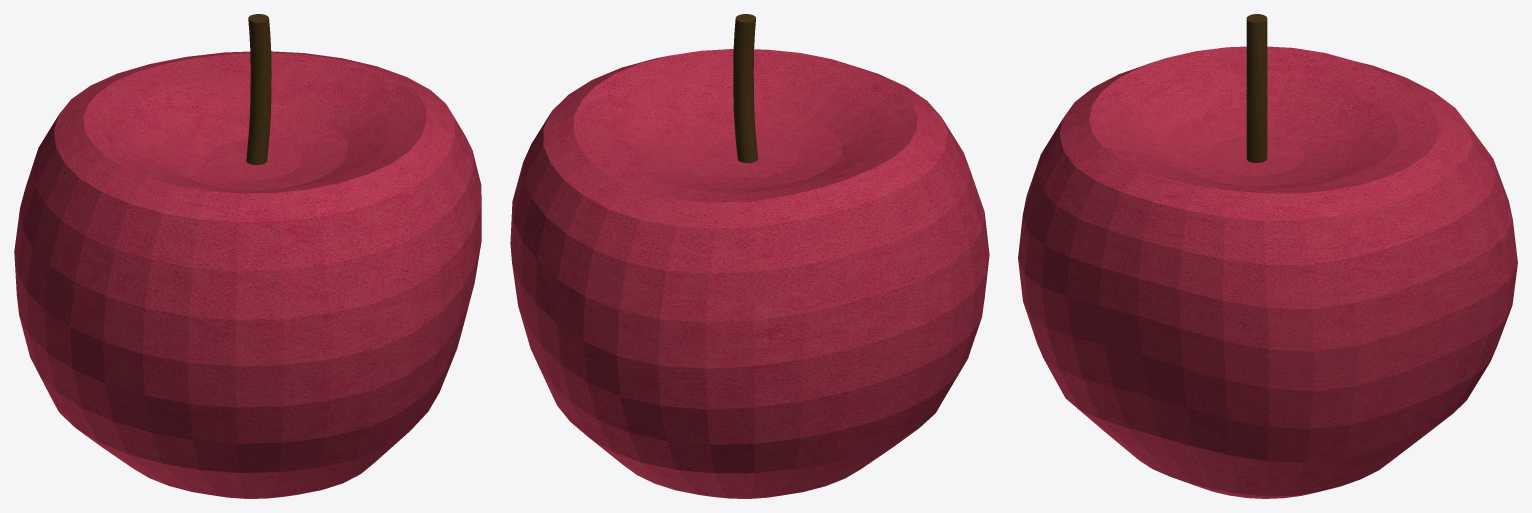
File: buah2.fbx
3 views of the same model, side by side, from view 1: azimuth 30°, elevation 25°; view 2: azimuth 150°, elevation 25°; view 3: azimuth 270°, elevation 25° (orthographic).
Visible parts, largest first — view 1: Sphere; view 2: Sphere; view 3: Sphere.
Boxes of the visible parts, bbox=[...] form: Sphere: bbox=[14, 14, 481, 498]; Sphere: bbox=[510, 14, 989, 498]; Sphere: bbox=[1018, 14, 1517, 498].
Size of the model in its own units: 195 by 198 by 203.
